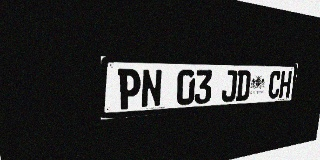0: (176, 70, 196, 106)
3: (194, 70, 212, 104)
C: (268, 71, 282, 99)
D: (235, 70, 251, 101)
H: (279, 71, 292, 98)
J: (221, 70, 238, 102)
N: (141, 69, 162, 108)
P: (117, 69, 141, 110)
